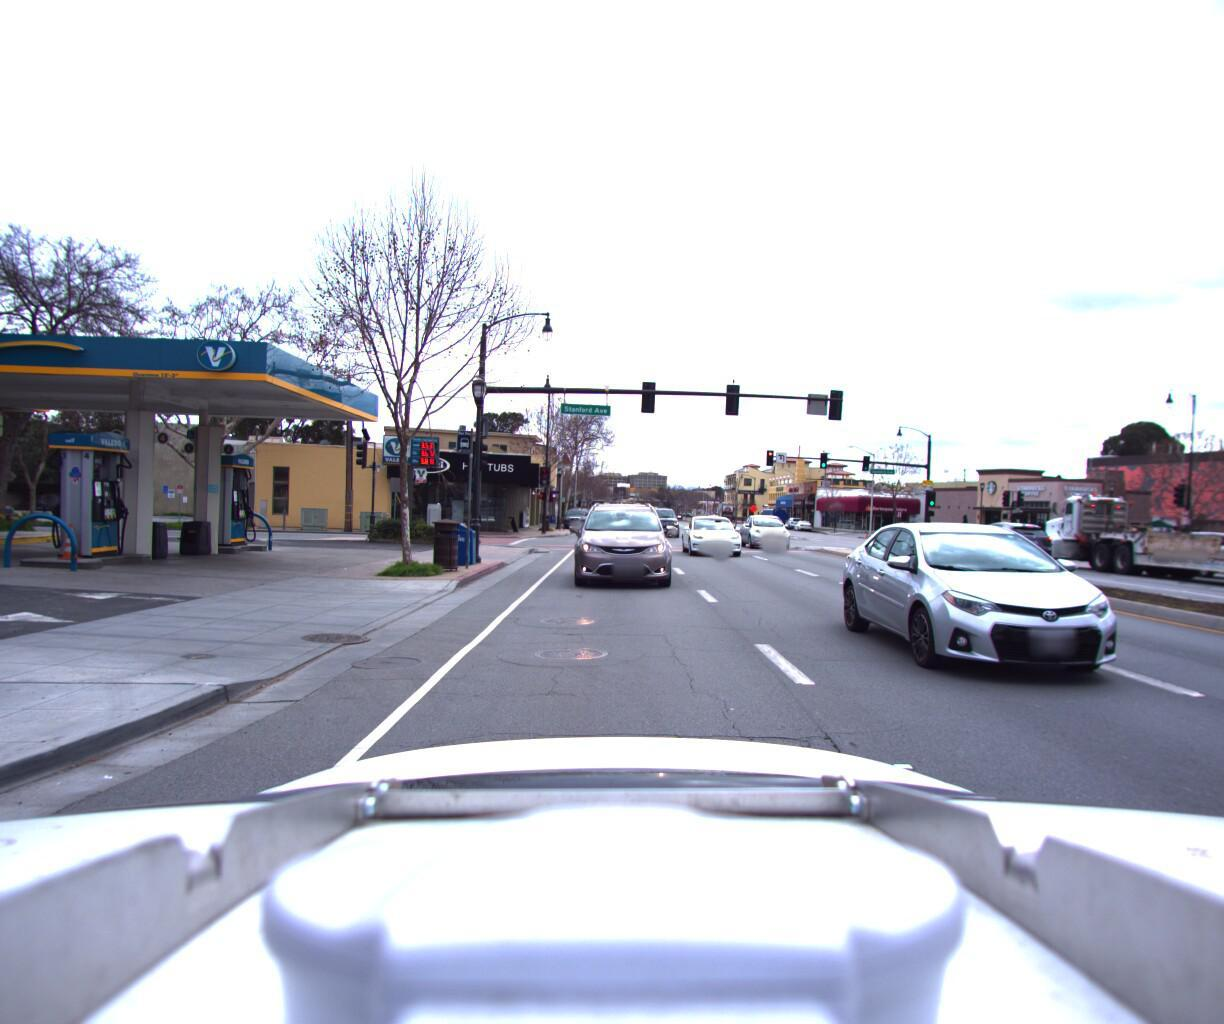car: (854, 509, 1224, 731), (564, 487, 673, 592), (955, 516, 1061, 565), (1137, 518, 1224, 575), (684, 510, 753, 558), (743, 510, 801, 551), (647, 504, 684, 539), (564, 503, 589, 526)
truck: (1011, 471, 1224, 630)
